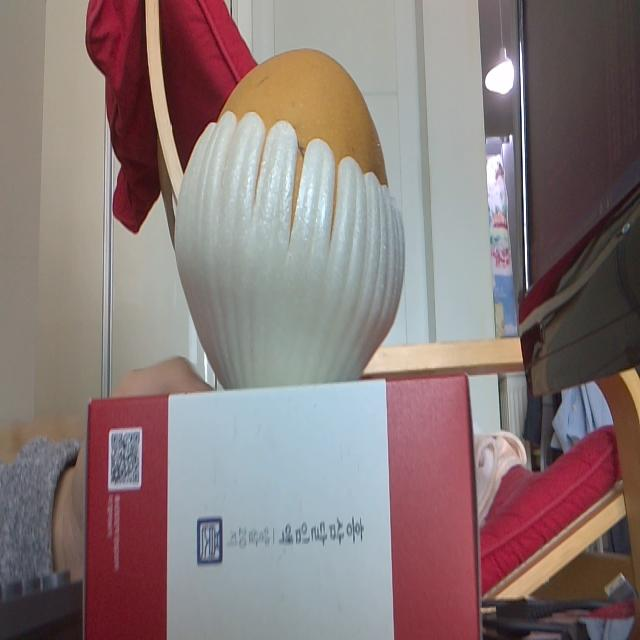apple: (194, 45, 393, 391)
